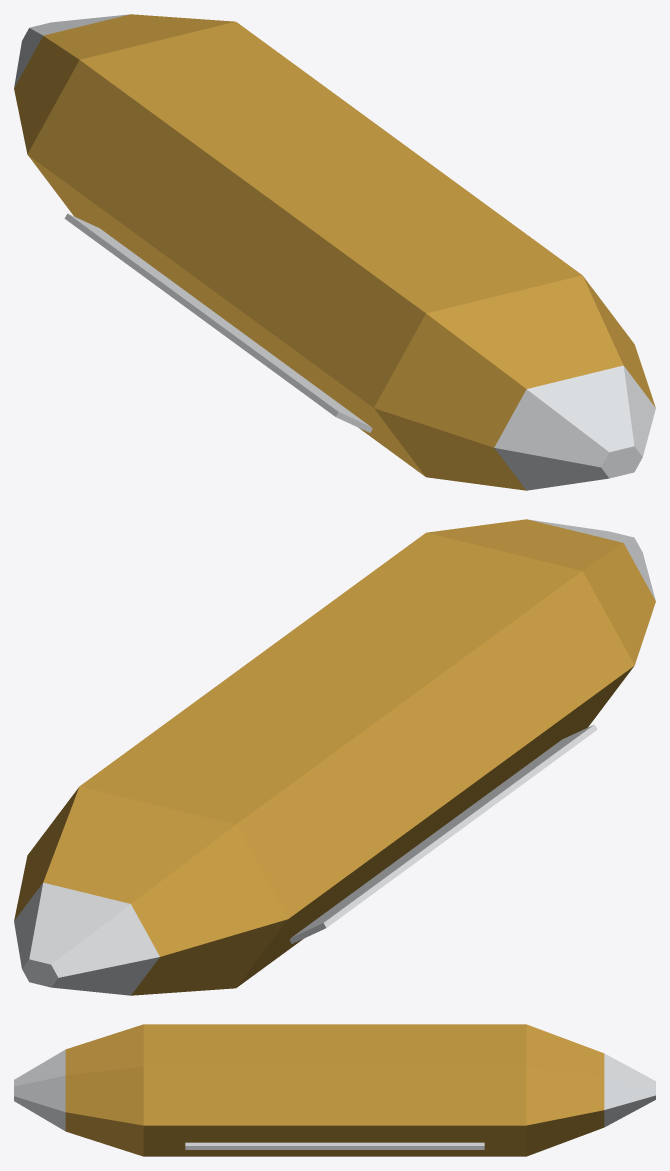
Rendered from e1_amp.obj.
The picture shows the model from 3 angles, top to bottom: view 1: azimuth 30°, elevation 25°; view 2: azimuth 150°, elevation 25°; view 3: azimuth 270°, elevation 25°; orthographic projection. The views are drawn at different scales.
Visible parts, largest first — view 1: e1_amp; view 2: e1_amp; view 3: e1_amp.
Part boxes in pixels (<box>): e1_amp: <box>14,14,655,490</box>; e1_amp: <box>14,519,655,995</box>; e1_amp: <box>14,1024,655,1156</box>.
Size of the model in its own units: 1 by 0.6 by 3.86.
